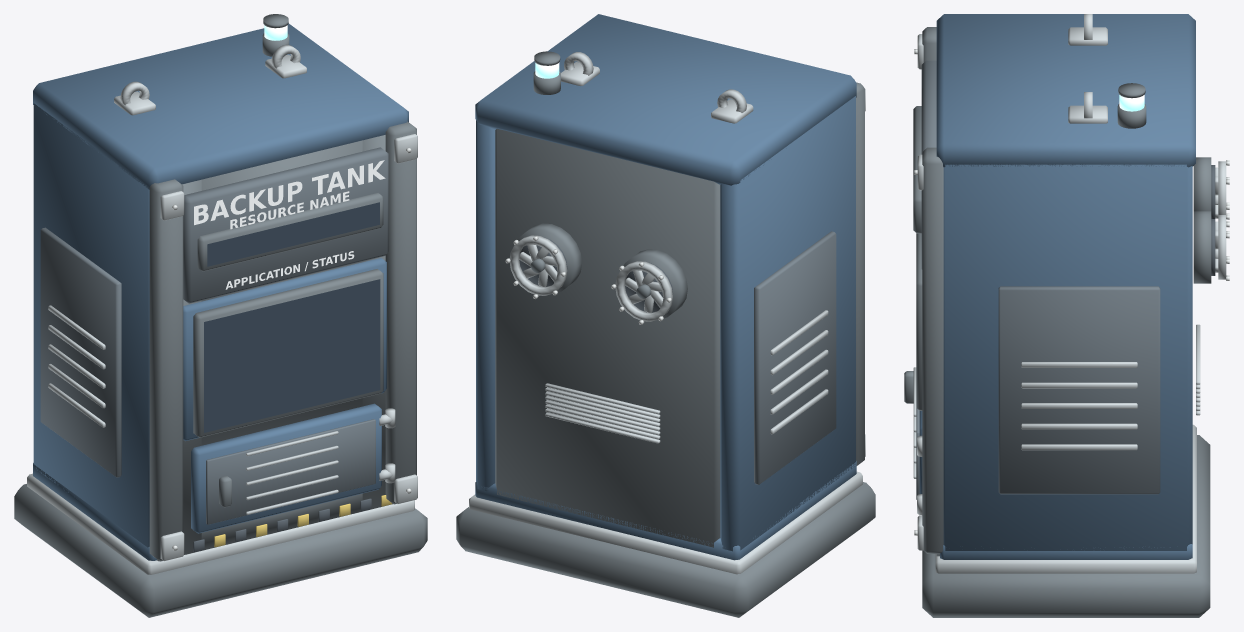
The model's file is backup_tank_standard.glb.
3 views of the same model, side by side, from view 1: azimuth 30°, elevation 25°; view 2: azimuth 150°, elevation 25°; view 3: azimuth 270°, elevation 25° (orthographic). The views are drawn at different scales.
Visible parts, largest first — view 1: Roof_navy, SideWall_navy, CornerPost_frame, LiveViewSurface_glass, Skid_frame, SideServicePanel_graphite, FrontHeader_graphite, DoorMoving_Inset_graphite, DoorMoving_Panel_navy, SkidDeck_steel, LiveViewSurfaceFrame_frame, ScreenSupport_navy (+16 smaller); view 2: BackWall_frame, SideWall_navy, Roof_navy, Skid_frame, SideServicePanel_graphite, SkidDeck_steel, RearFan_steel, KickPlate_navy, RearVent_steel, CornerPost_frame, RearFan_frame, SideLouver_steel (+3 smaller); view 3: SideWall_navy, Roof_navy, SideServicePanel_graphite, Skid_frame, CornerPost_frame, SkidDeck_steel, SideLouver_steel, RearFan_frame, KickPlate_navy, FrontHeader_graphite, RearFan_steel, LiftMount_steel (+7 smaller).
Boxes of the visible parts, x1,y1,x2,y2 form: Roof_navy: (33,23,408,189); SideWall_navy: (33,103,149,547); CornerPost_frame: (149,121,416,561); LiveViewSurface_glass: (204,279,380,432); Skid_frame: (14,484,427,617); SideServicePanel_graphite: (40,227,121,477); FrontHeader_graphite: (183,147,388,303); DoorMoving_Inset_graphite: (206,419,375,524); DoorMoving_Panel_navy: (191,403,381,533); SkidDeck_steel: (27,473,414,574); LiveViewSurfaceFrame_frame: (193,269,383,437); ScreenSupport_navy: (183,258,386,441); BackWall_frame: (495,128,720,547); SideWall_navy: (476,96,855,551); Roof_navy: (475,14,856,185); Skid_frame: (456,482,875,617); SideServicePanel_graphite: (754,231,836,484); SkidDeck_steel: (469,471,862,574); RearFan_steel: (509,235,672,321); KickPlate_navy: (475,461,856,560); RearVent_steel: (545,383,660,443); CornerPost_frame: (856,82,864,465); RearFan_frame: (518,223,687,319); SideLouver_steel: (770,310,828,434); SideWall_navy: (943,164,1192,550); Roof_navy: (936,14,1195,167); SideServicePanel_graphite: (998,286,1160,494); Skid_frame: (922,435,1210,617); CornerPost_frame: (922,27,943,553); SkidDeck_steel: (935,424,1196,573); SideLouver_steel: (1021,362,1137,450); RearFan_frame: (1193,157,1211,283); KickPlate_navy: (940,544,1192,559); FrontHeader_graphite: (921,60,936,269); RearFan_steel: (1215,161,1226,279); LiftMount_steel: (1068,27,1107,123).
Size of the model in its own units: 1.6 by 2.53 by 1.48.
